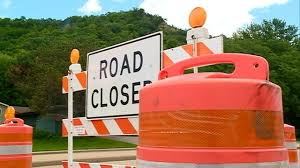barrel: (139, 74, 292, 168), (1, 120, 33, 168), (283, 124, 296, 168)
